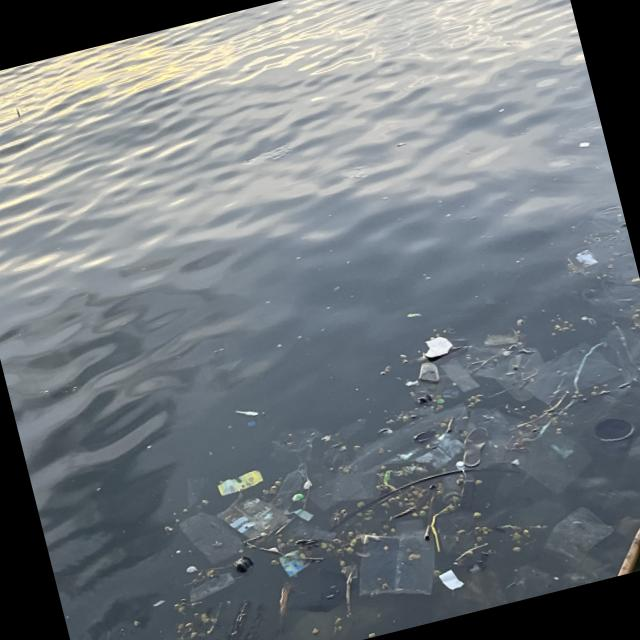foam: (423, 334, 455, 360)
